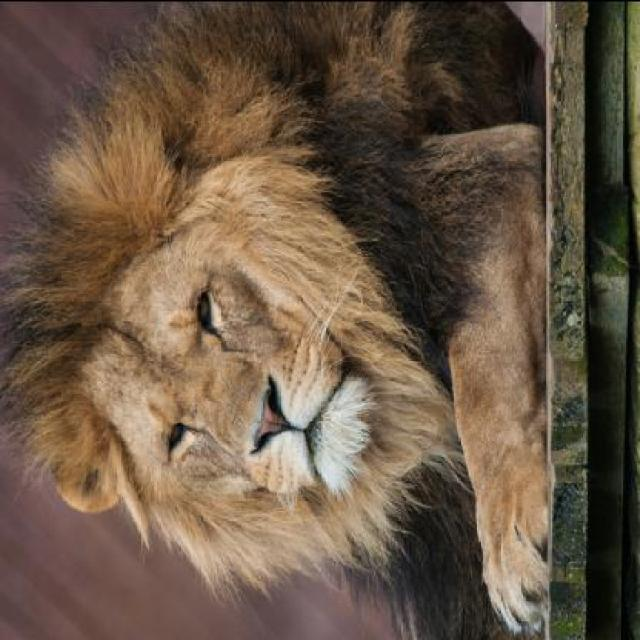Lion: (0, 2, 566, 636)
